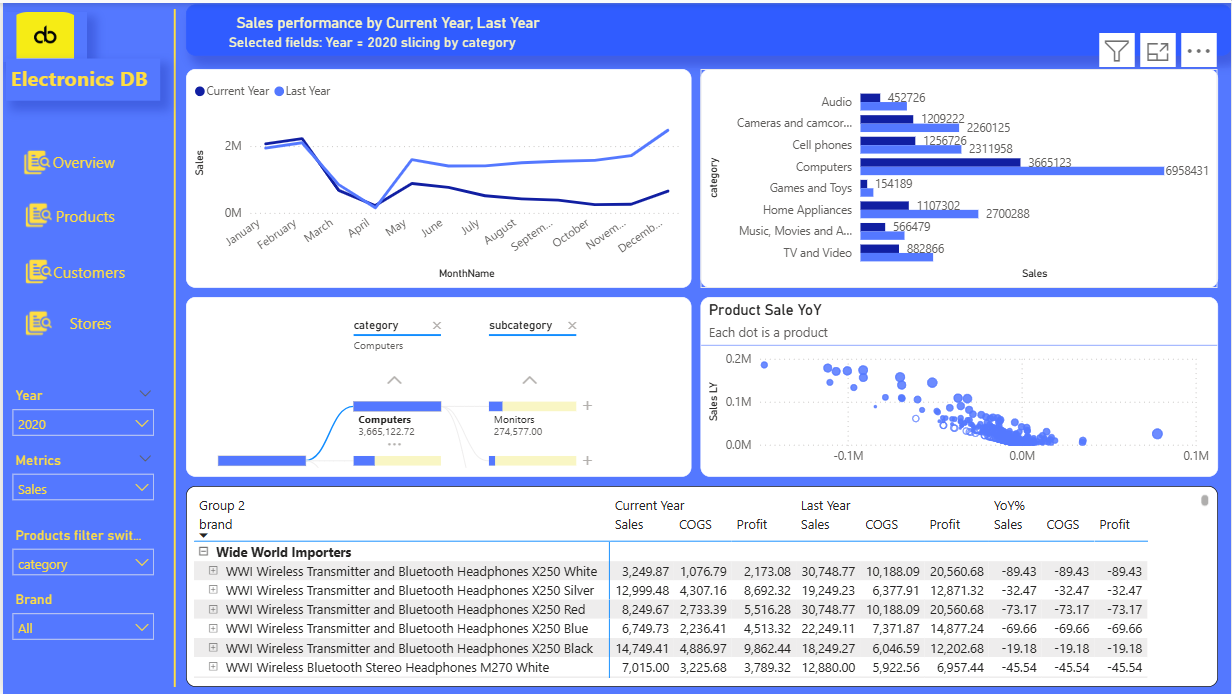

The page's visual inventory and layout, read from the dashboard file:
{"tool":"powerbi","page":{"name":"Products","canvas":[1280,720],"ordinal":1},"visuals":[{"type":"textbox","box":[190.7,1.6,1089.4,53.1],"z":0},{"type":"actionButton","title":"Overview","box":[6,139.2,167,53.7],"z":0,"group":"g1"},{"type":"actionButton","title":"Overview","box":[8,194.9,167,51.7],"z":1000,"group":"g1"},{"type":"slicer","fields":{"Values":["Metrics 2.Metrics"]},"box":[0,463.4,167,77.6],"z":1000},{"type":"actionButton","title":"Overview","box":[8,254.4,167,49.7],"z":2000,"group":"g1"},{"type":"slicer","fields":{"Values":["dim_Date.Date.Variation.Date Hierarchy.Year"]},"box":[0,395.7,167,67.6],"z":2000},{"type":"actionButton","title":"Overview","box":[8,312.1,167,41.8],"z":3000,"group":"g1"},{"type":"slicer","fields":{"Values":["Products filter switch.Products filter switch"]},"box":[0,540.9,167,67.6],"z":3000},{"type":"slicer","fields":{"Values":["dim_products.category"]},"box":[0,608.5,167,111.4],"z":4000},{"type":"clusteredBarChart","fields":{"Y":["metrics.Sales"],"Category":["dim_products.category"],"Series":["My.My Cals"]},"box":[726.8,68.8,539.2,228.2],"z":5000},{"type":"decompositionTreeVisual","fields":{"Analyze":["metrics.Sales"],"ExplainBy":["dim_products.category","dim_products.subcategory","dim_products.product_name"]},"box":[190.7,306.3,526.7,187.6],"z":6000},{"type":"pivotTable","fields":{"Values":["metrics.Sales","metrics.COGS","metrics.Profit"],"Rows":["dim_products.brand","dim_products.product_name","dim_products.color"],"Columns":["Group 2.Group 2"]},"box":[190.7,503.3,1075.3,209.4],"z":7000},{"type":"scatterChart","title":"Product Sale YoY","fields":{"Y":["metrics.Sales LY"],"X":["metrics.Sales YoY"],"Category":["dim_products.product_name"],"Size":["metrics.Sales"]},"box":[726.8,306.3,539.2,187.6],"z":8000},{"type":"lineChart","fields":{"Y":["metrics.Sales"],"Category":["dim_Date.MonthName"],"Series":["Group1.Group1"]},"box":[190.7,68.8,526.7,228.2],"z":9000},{"type":"shape","box":[120.4,6.3,117.2,706.5],"z":10000},{"type":"card","fields":{"Values":["metrics.Dynamic_title1"]},"box":[190.7,0,420.4,42.2],"z":11000},{"type":"card","fields":{"Values":["metrics.Dynamic_title2"]},"box":[190.7,20.3,387.6,42.2],"z":12000},{"type":"group","id":"g1","title":"Navigation buttons","box":[6,139.2,169,214.6],"z":13000},{"type":"image","box":[0,9.9,87.5,51.7],"z":13001},{"type":"textbox","box":[3.2,58.4,160.5,43.8],"z":13002}]}

Visuals, with their boxes in screenshot pixels (x1, y1, x2, y2):
textbox: {"x1": 191, "y1": 2, "x2": 1225, "y2": 52}
"Overview" actionButton: {"x1": 15, "y1": 132, "x2": 174, "y2": 183}
"Overview" actionButton: {"x1": 17, "y1": 185, "x2": 176, "y2": 234}
slicer - Metrics 2.Metrics: {"x1": 10, "y1": 440, "x2": 168, "y2": 514}
"Overview" actionButton: {"x1": 17, "y1": 241, "x2": 176, "y2": 289}
slicer - dim_Date.Date.Variation.Date Hierarchy.Year: {"x1": 10, "y1": 376, "x2": 168, "y2": 440}
"Overview" actionButton: {"x1": 17, "y1": 296, "x2": 176, "y2": 336}
slicer - Products filter switch.Products filter switch: {"x1": 10, "y1": 513, "x2": 168, "y2": 578}
slicer - dim_products.category: {"x1": 10, "y1": 578, "x2": 168, "y2": 683}
clusteredBarChart - metrics.Sales x dim_products.category: {"x1": 699, "y1": 65, "x2": 1211, "y2": 282}
decompositionTreeVisual - metrics.Sales x dim_products.category: {"x1": 191, "y1": 291, "x2": 691, "y2": 469}
pivotTable - metrics.Sales x metrics.COGS: {"x1": 191, "y1": 478, "x2": 1211, "y2": 676}
"Product Sale YoY" scatterChart: {"x1": 699, "y1": 291, "x2": 1211, "y2": 469}
lineChart - metrics.Sales x dim_Date.MonthName: {"x1": 191, "y1": 65, "x2": 691, "y2": 282}
shape: {"x1": 124, "y1": 6, "x2": 235, "y2": 677}
card - metrics.Dynamic_title1: {"x1": 191, "y1": 0, "x2": 590, "y2": 40}
card - metrics.Dynamic_title2: {"x1": 191, "y1": 19, "x2": 559, "y2": 59}
"Navigation buttons" group: {"x1": 15, "y1": 132, "x2": 176, "y2": 336}
image: {"x1": 10, "y1": 9, "x2": 93, "y2": 58}
textbox: {"x1": 13, "y1": 55, "x2": 165, "y2": 97}
